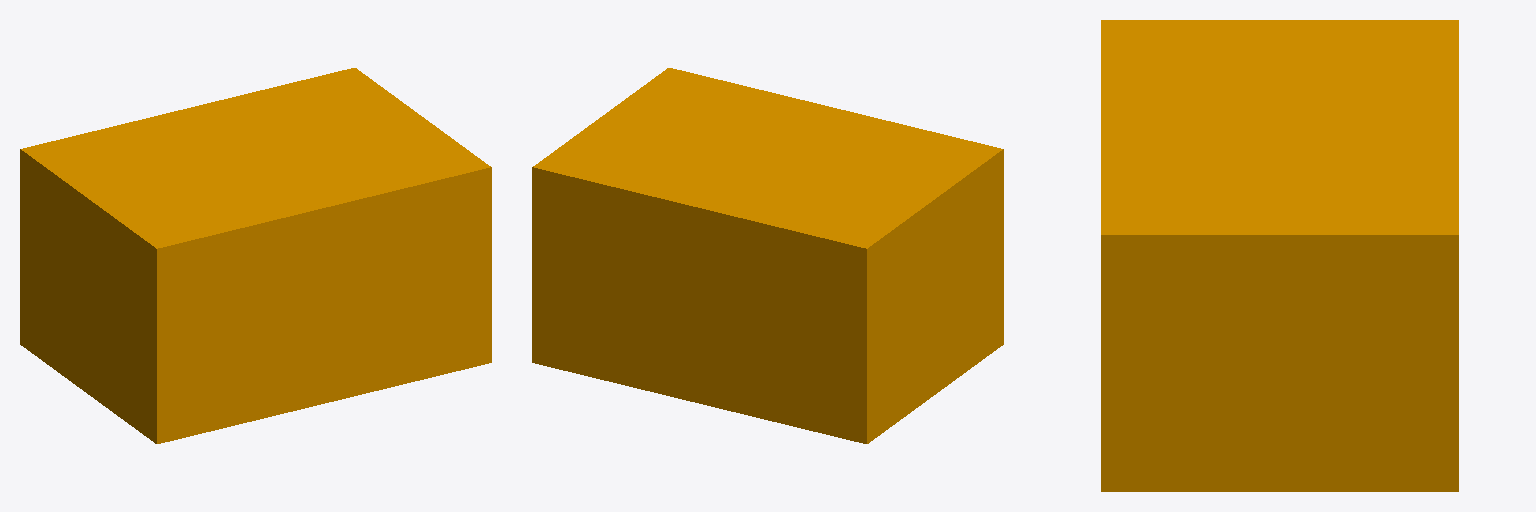
robot.urdf — 2x2:
<?xml version='1.0' encoding='UTF-8'?>
<robot name="2x2">
  <link name="base_link">
    <inertial>
      <origin xyz="0.0 0.0 0.0" rpy="0.0 0.0 0.0"/>
      <mass value="0.01"/>
      <inertia ixx="0.1" ixy="0.0" ixz="0.0" iyy="0.1" iyz="0.0" izz="0.1"/>
    </inertial>
    <visual>
      <geometry>
        <box size="0.034 0.024 0.019"/>
      </geometry>
      <material name=""/>
      <origin xyz="0.0 0.0 0.0" rpy="0.0 0.0 0.0"/>
    </visual>
    <collision>
      <geometry>
        <box size="0.034 0.024 0.019"/>
      </geometry>
      <origin xyz="0.0 0.0 0.0" rpy="0.0 0.0 0.0"/>
    </collision>
  </link>
  <material name="">
    <color rgba="0.892 0.705 0.036 1.   "/>
  </material>
  <contact>
    <lateral_friction value="1.0"/>
    <rolling_friction value="0.0"/>
    <contact_cfm value="0.0"/>
    <contact_erp value="1.0"/>
  </contact>
</robot>

--- Facts derived from the render (not from the file) ---
3 views of the same robot in one strip: view 1: azimuth 30°, elevation 25°; view 2: azimuth 150°, elevation 25°; view 3: azimuth 270°, elevation 25° (orthographic).
Model 2x2 with 1 links and 0 joints (none), rooted at base_link, posed every joint at zero.
Links seen in each view (by area): view 1: base_link; view 2: base_link; view 3: base_link.
Boxes of the visible links, box(x1,y1,x2,y2) form: base_link: box(20, 68, 491, 443); base_link: box(532, 68, 1003, 443); base_link: box(1101, 20, 1458, 491).
Size in the robot's own frame: 0.034 by 0.024 by 0.019 metres.
Geometry: primitives only (box / cylinder / sphere), no mesh files.